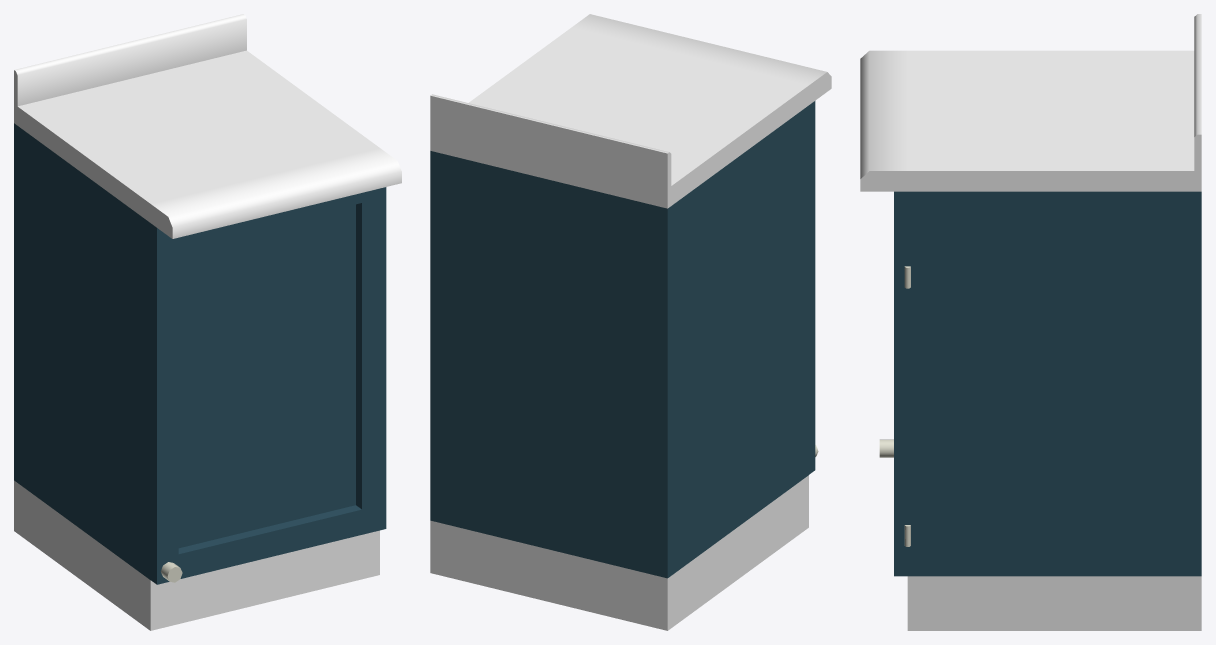
Rendered from Kitchen_C.fbx.
The picture shows the model from 3 angles, left to right: view 1: azimuth 30°, elevation 25°; view 2: azimuth 150°, elevation 25°; view 3: azimuth 270°, elevation 25°; orthographic projection. The views are drawn at different scales.
Parts seen in each view (by area): view 1: Kitchen_C, Kitchen_C_Door; view 2: Kitchen_C, Kitchen_C_Door; view 3: Kitchen_C, Kitchen_C_Door.
Part boxes in pixels (x1,y1,x2,y2): Kitchen_C: (14,14,401,630); Kitchen_C_Door: (150,187,386,584); Kitchen_C: (430,14,831,630); Kitchen_C_Door: (809,101,818,474); Kitchen_C: (860,14,1201,630); Kitchen_C_Door: (879,191,910,576).
Bounding box in the file's own units: 50.56 × 96.05 × 59.82.
